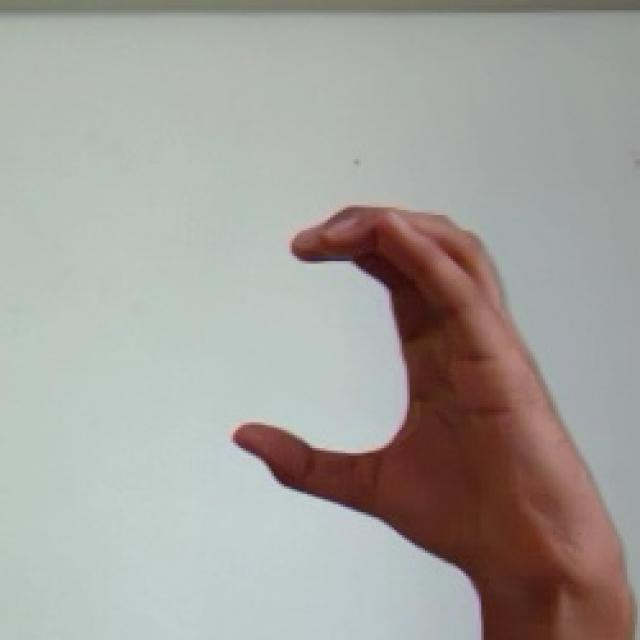Alphabet-C: (236, 207, 637, 640), (236, 207, 635, 640)
